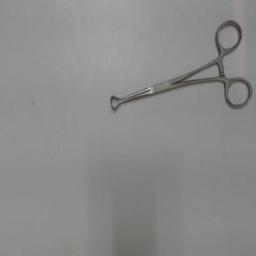Babcock Tissue Forceps: (109, 17, 255, 113)
